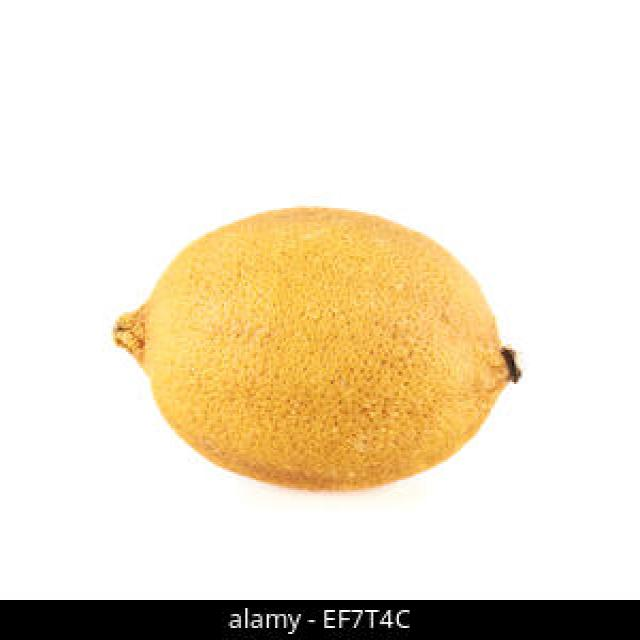overripe: (110, 202, 528, 496)
